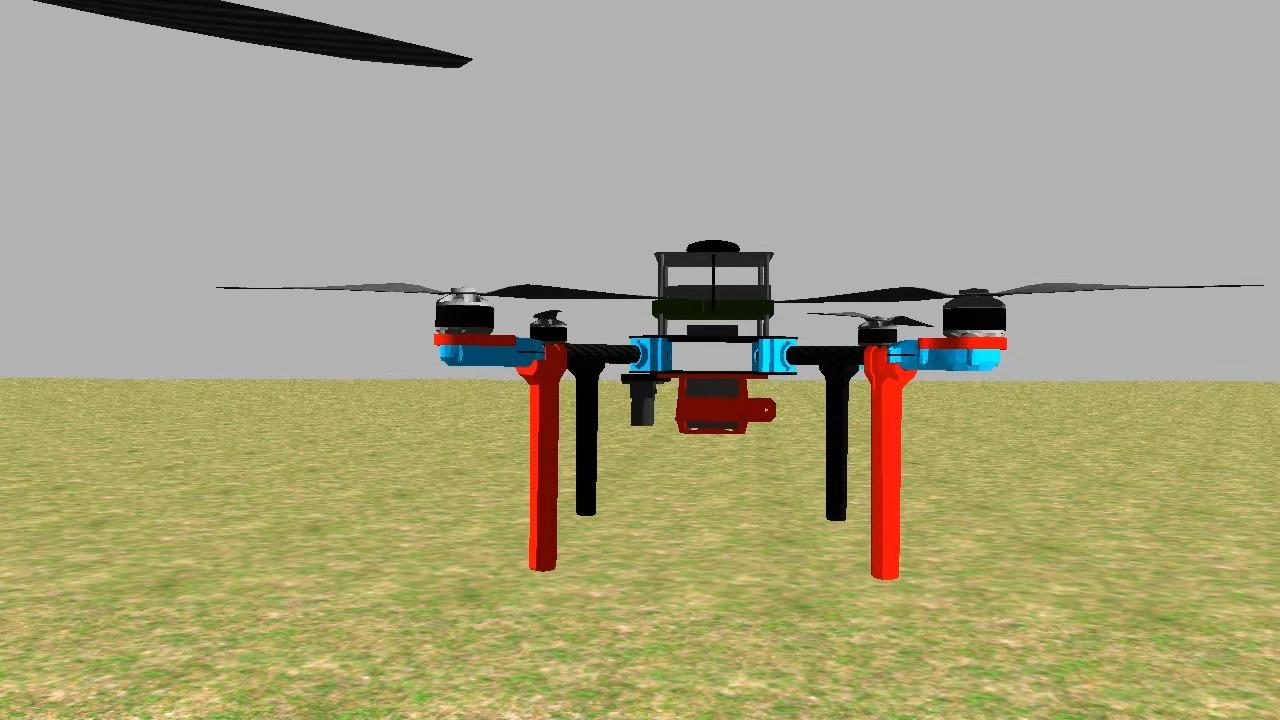UAV: (423, 223, 1018, 593)
